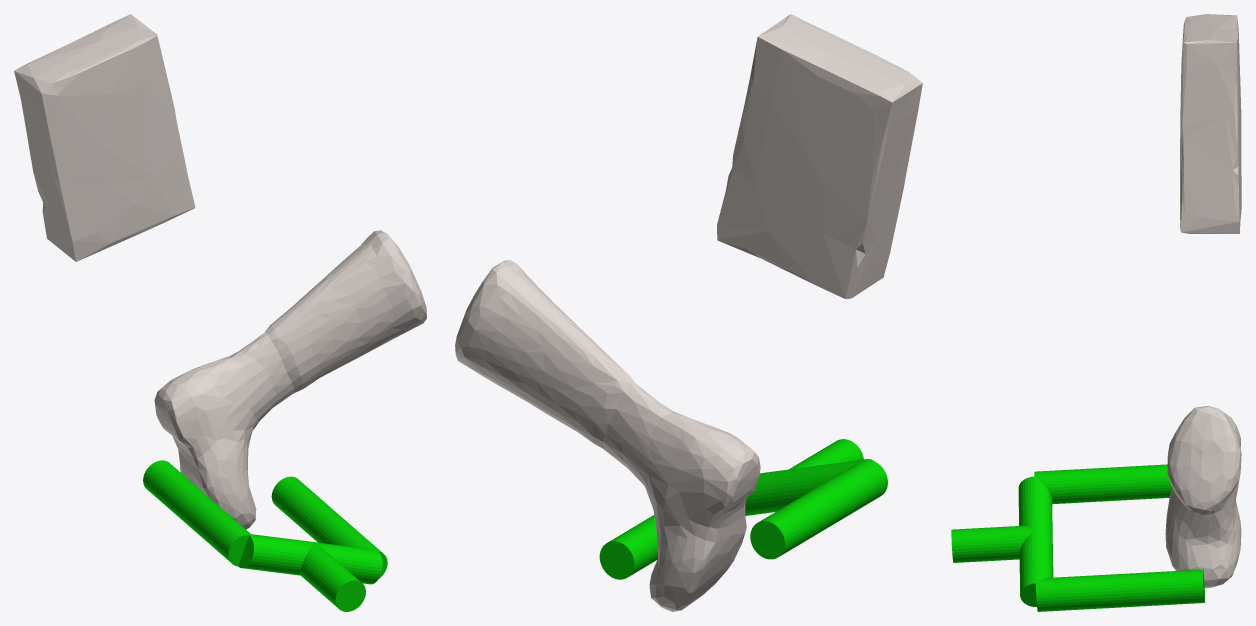
File: round_000_trial_003.obj
3 views of the same model, side by side, from view 1: azimuth 30°, elevation 25°; view 2: azimuth 150°, elevation 25°; view 3: azimuth 270°, elevation 25° (orthographic). The views are drawn at different scales.
Parts seen in each view (by area): view 1: geometry_0, geometry_1; view 2: geometry_0, geometry_1; view 3: geometry_0, geometry_1.
Part boxes in pixels (<box>): geometry_0: <box>14,14,426,529</box>; geometry_1: <box>143,460,387,611</box>; geometry_0: <box>455,14,922,611</box>; geometry_1: <box>599,439,887,579</box>; geometry_0: <box>1165,14,1241,588</box>; geometry_1: <box>951,464,1204,611</box>.
Bounding box in the file's own units: 0.1287 × 0.1662 × 0.0866.
